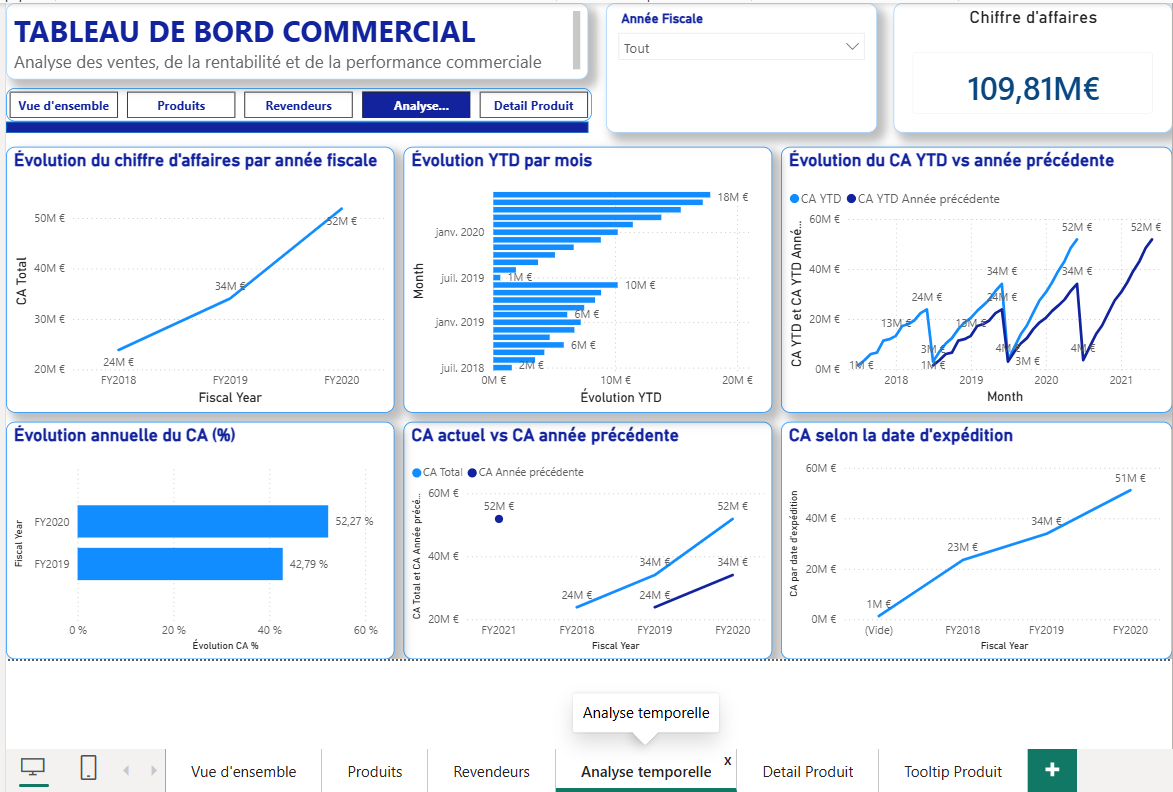

Layout of this report page (visuals, bound fields, positions):
{"tool":"powerbi","page":{"name":"Analyse temporelle","canvas":[1280,720],"ordinal":3},"visuals":[{"type":"lineChart","title":"Évolution du chiffre d''affaires par année fiscale","fields":{"Category":["Date_data.Fiscal Year"],"Y":["Mesures.CA Total"]},"box":[0,157.8,426.8,292.3],"z":0},{"type":"lineChart","title":"CA actuel vs CA année précédente","fields":{"Category":["Date_data.Fiscal Year"],"Y":["Mesures.CA Total","Mesures.CA Année précédente"]},"box":[436.4,459.7,404.8,260.7],"z":2000},{"type":"clusteredBarChart","title":"Évolution annuelle du CA (%)","fields":{"Category":["Date_data.Fiscal Year"],"Y":["Mesures.Évolution CA %"]},"box":[0,459.7,426.8,260.7],"z":3000},{"type":"lineChart","title":"Évolution du CA YTD vs année précédente","fields":{"Category":["Date_data.Month"],"Y":["Mesures.CA YTD","Mesures.CA YTD Année précédente"]},"box":[850.8,157.8,429.5,292.3],"z":4000},{"type":"clusteredBarChart","title":"Évolution YTD par mois","fields":{"Category":["Date_data.Month"],"Y":["Mesures.Évolution YTD"]},"box":[436.4,157.8,404.8,292.3],"z":6000},{"type":"lineChart","title":"CA selon la date d''expédition","fields":{"Category":["Date_data.Fiscal Year"],"Y":["Mesures.CA par date d'expédition"]},"box":[850.8,459.7,429.5,260.7],"z":7000},{"type":"slicer","title":"Année Fiscal","fields":{"Values":["Date_data.Fiscal Year"]},"box":[658.7,0,297.8,142.7],"z":8001},{"type":"cardVisual","title":"Chiffre d''affaires","fields":{"Data":["Mesures.CA Total"]},"box":[974.3,0,306,142.7],"z":8002},{"type":"pageNavigator","box":[0,93.3,643.6,37],"z":8003},{"type":"textbox","box":[0,0,639.5,83.7],"z":8004},{"type":"shape","box":[0,130.4,639.5,12.3],"z":8005}]}

Visuals, with their boxes on the page's 1280x720 design canvas (x1, y1, x2, y2). These are canvas units, not pixel positions in the 1173x792 screenshot, which may show the page scaled, cropped or inside an application window:
"Évolution du chiffre d''affaires par année fiscale" lineChart: BBox(0, 158, 427, 450)
"CA actuel vs CA année précédente" lineChart: BBox(436, 460, 841, 720)
"Évolution annuelle du CA (%)" clusteredBarChart: BBox(0, 460, 427, 720)
"Évolution du CA YTD vs année précédente" lineChart: BBox(851, 158, 1280, 450)
"Évolution YTD par mois" clusteredBarChart: BBox(436, 158, 841, 450)
"CA selon la date d''expédition" lineChart: BBox(851, 460, 1280, 720)
"Année Fiscal" slicer: BBox(659, 0, 956, 143)
"Chiffre d''affaires" cardVisual: BBox(974, 0, 1280, 143)
pageNavigator: BBox(0, 93, 644, 130)
textbox: BBox(0, 0, 640, 84)
shape: BBox(0, 130, 640, 143)
